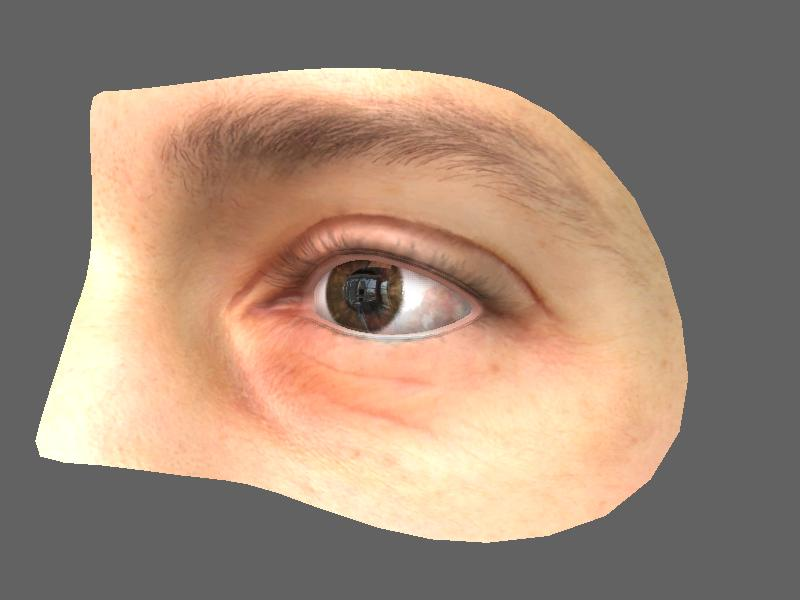iris: (323, 259, 414, 338)
